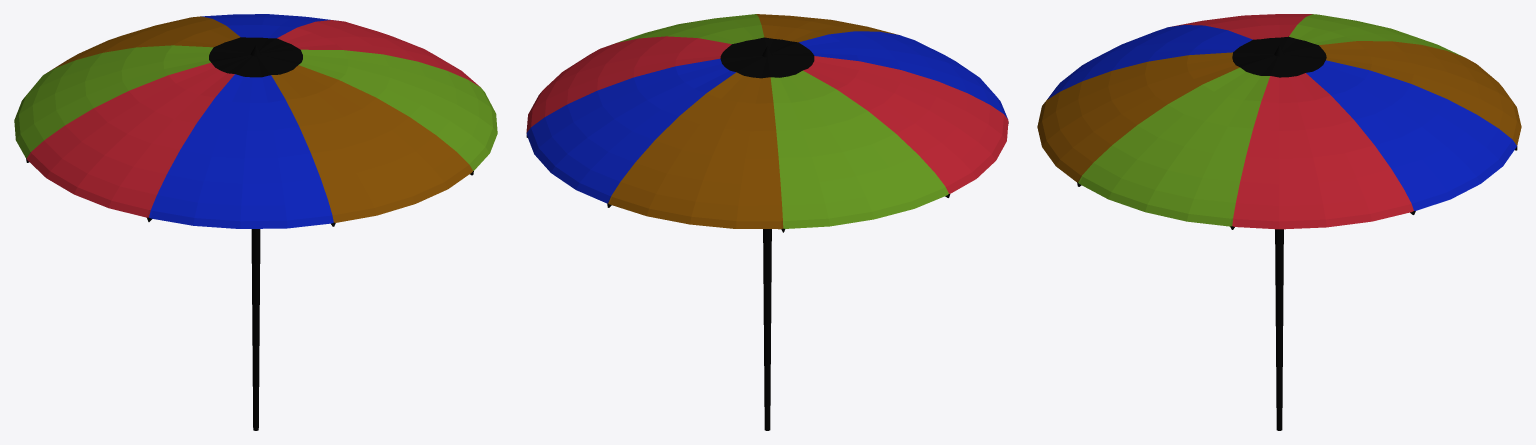
Rendered from Sonnenschirm01.fbx.
3 renders of one model, left to right at view 1: azimuth 30°, elevation 25°; view 2: azimuth 150°, elevation 25°; view 3: azimuth 270°, elevation 25°, orthographic.
Parts seen in each view (by area): view 1: Sphere; view 2: Sphere; view 3: Sphere.
Boxes of the visible parts, left/top/right/bottom form: Sphere: left=14, top=14, right=497, bottom=430; Sphere: left=526, top=14, right=1008, bottom=430; Sphere: left=1037, top=14, right=1521, bottom=430.
Bounding box in the file's own units: 3425 × 3000 × 3425.
